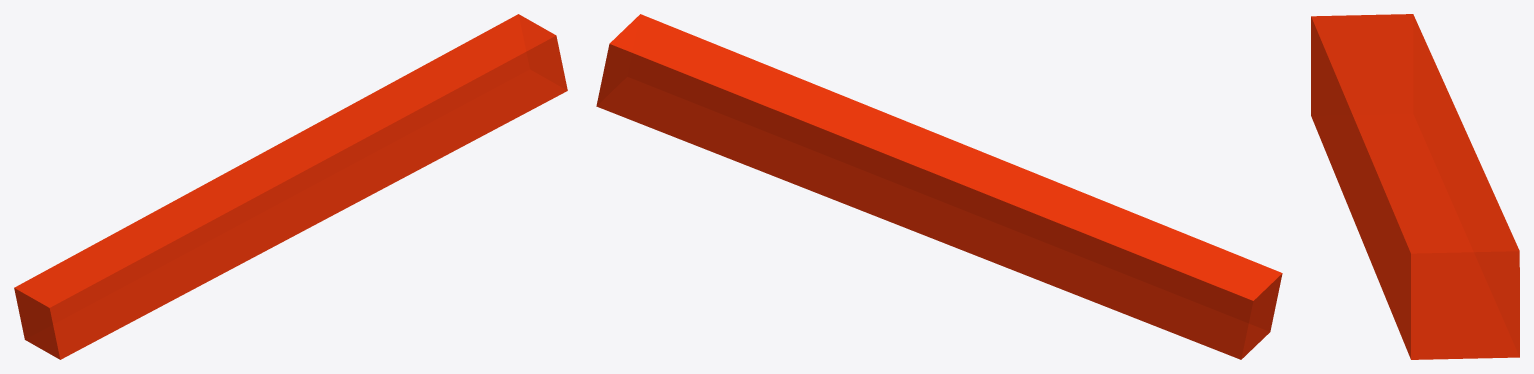
File: Event_420094457_EErechit_30.fbx
3 renders of one model, left to right at view 1: azimuth 30°, elevation 25°; view 2: azimuth 150°, elevation 25°; view 3: azimuth 270°, elevation 25°, orthographic. The views are drawn at different scales.
Visible parts, largest first — view 1: Model; view 2: Model; view 3: Model.
Part boxes in pixels (x1,y1,x2,y2): Model: (14, 14, 567, 359); Model: (596, 14, 1282, 359); Model: (1311, 14, 1519, 359).
Size of the model in its own units: 0.7533 by 0.2281 by 0.1476.
